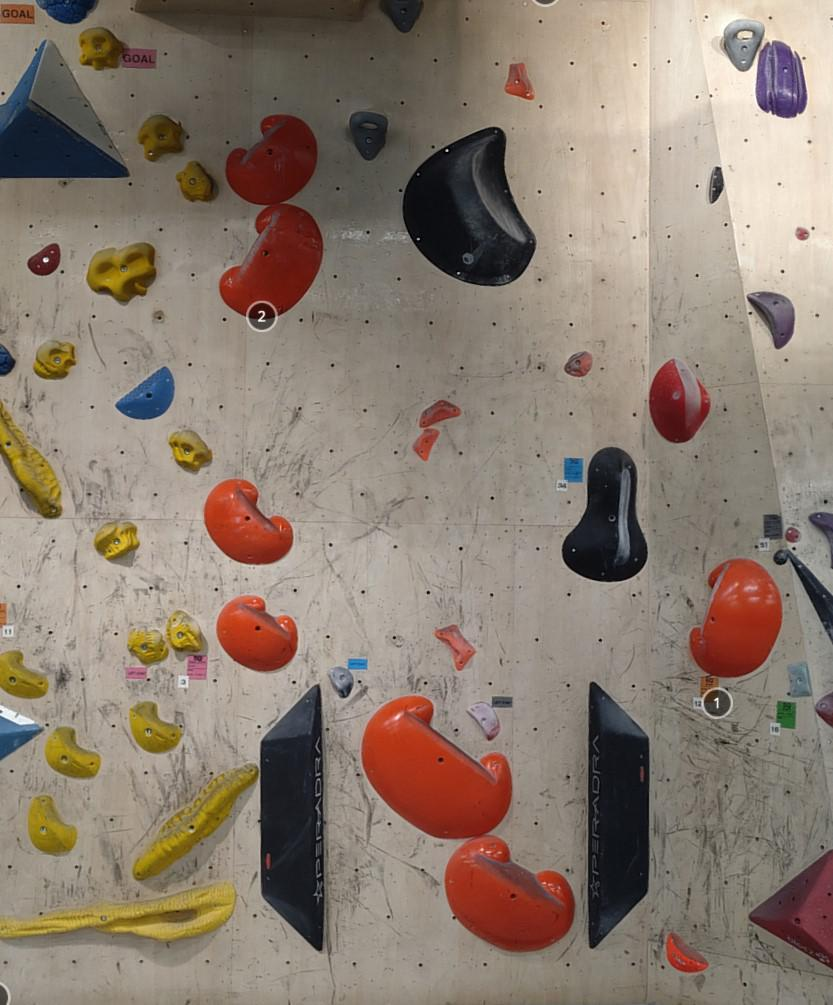hold: (361, 696, 512, 839), (402, 126, 536, 285), (0, 39, 130, 178), (261, 684, 323, 950), (588, 681, 649, 948), (444, 834, 575, 951), (132, 763, 259, 881), (0, 879, 236, 942), (219, 204, 323, 318), (562, 447, 647, 582), (689, 557, 782, 677), (749, 849, 833, 970), (225, 114, 317, 205), (204, 479, 293, 564), (0, 399, 63, 518), (216, 595, 298, 671), (649, 358, 710, 442), (786, 549, 833, 645), (87, 242, 157, 302), (756, 40, 807, 119), (115, 366, 175, 419), (44, 726, 102, 778), (28, 795, 77, 853), (746, 291, 795, 348), (129, 701, 181, 754), (0, 703, 45, 761), (0, 650, 49, 698), (136, 115, 184, 162), (724, 20, 765, 70), (78, 27, 124, 71), (434, 624, 476, 671), (169, 429, 213, 472), (350, 112, 388, 160), (666, 931, 709, 973), (33, 339, 77, 380), (93, 522, 140, 560), (127, 626, 169, 665), (175, 160, 214, 202), (166, 609, 202, 653), (35, 0, 97, 24), (808, 512, 833, 570), (466, 702, 500, 740), (418, 400, 462, 428), (384, 0, 422, 31), (504, 62, 535, 100), (28, 244, 60, 275), (787, 661, 812, 698), (412, 428, 439, 461), (327, 666, 353, 698), (564, 351, 592, 376), (815, 690, 833, 728), (709, 165, 724, 204), (0, 343, 15, 376), (785, 527, 801, 543), (773, 549, 788, 565), (795, 226, 809, 240)
volume: (135, 0, 370, 21)
